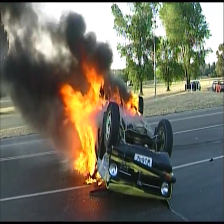fire_h: (60, 44, 108, 176), (123, 90, 141, 117)
fire_l: (85, 172, 104, 185), (109, 84, 120, 104)
